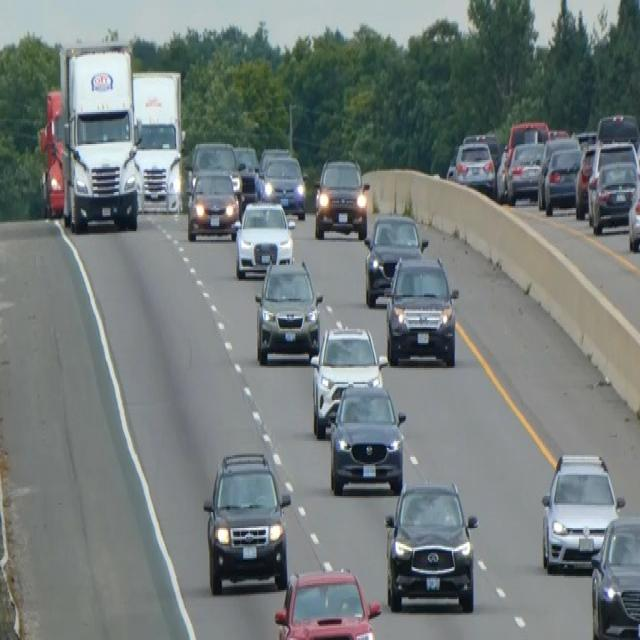car: (383, 478, 478, 614), (202, 450, 291, 594), (540, 450, 624, 574), (328, 379, 406, 494), (309, 323, 386, 438), (384, 252, 459, 366), (274, 566, 381, 638), (253, 256, 323, 364), (589, 514, 639, 638), (363, 212, 427, 308), (233, 197, 295, 279), (313, 155, 370, 240), (186, 165, 240, 240), (587, 158, 638, 233), (185, 138, 242, 202), (260, 153, 306, 219), (541, 144, 582, 213), (505, 138, 544, 204), (451, 137, 495, 194), (574, 140, 597, 218), (595, 110, 639, 150), (232, 142, 260, 203), (257, 144, 290, 192), (462, 130, 501, 170), (506, 117, 549, 153), (627, 175, 639, 252)
lorry: (57, 39, 141, 233)
